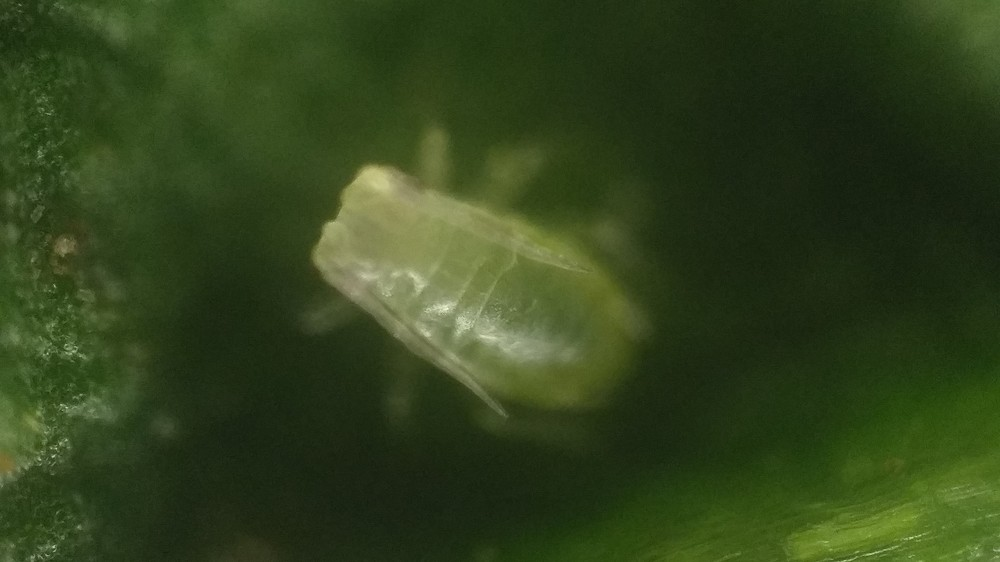Pulgon: (276, 120, 710, 479)
